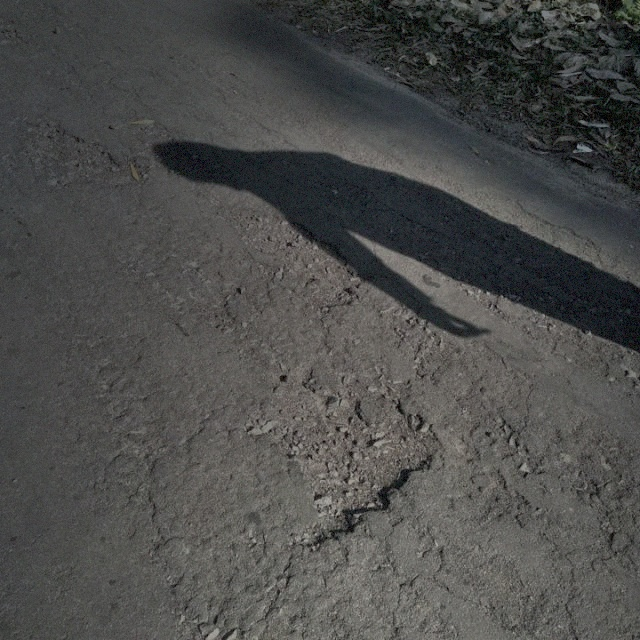pothole: (246, 375, 443, 549), (218, 204, 364, 310), (21, 120, 122, 187)
